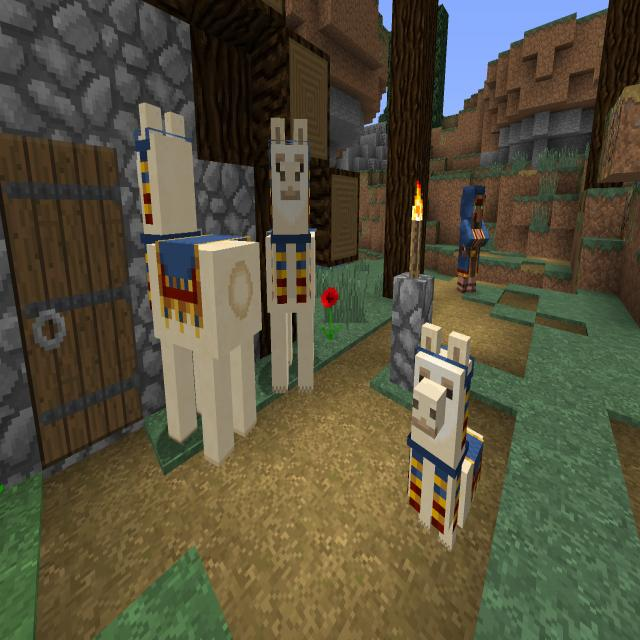Trader Lama: (134, 102, 261, 465), (406, 324, 484, 556), (265, 110, 316, 393)
